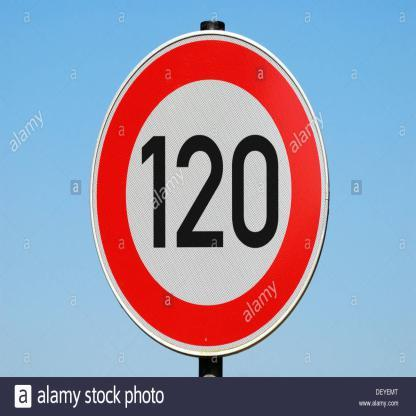Speed Limit 120: (97, 33, 325, 354)
